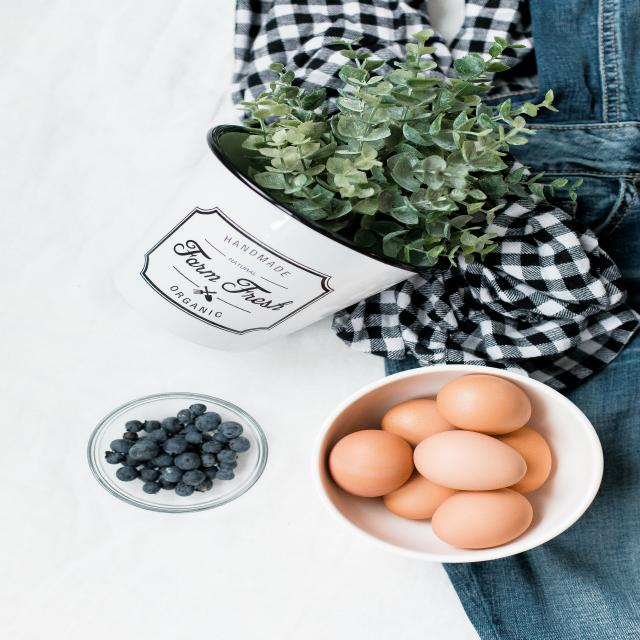egg: (389, 420, 547, 496), (418, 479, 553, 551), (430, 368, 549, 440), (330, 424, 424, 510)
